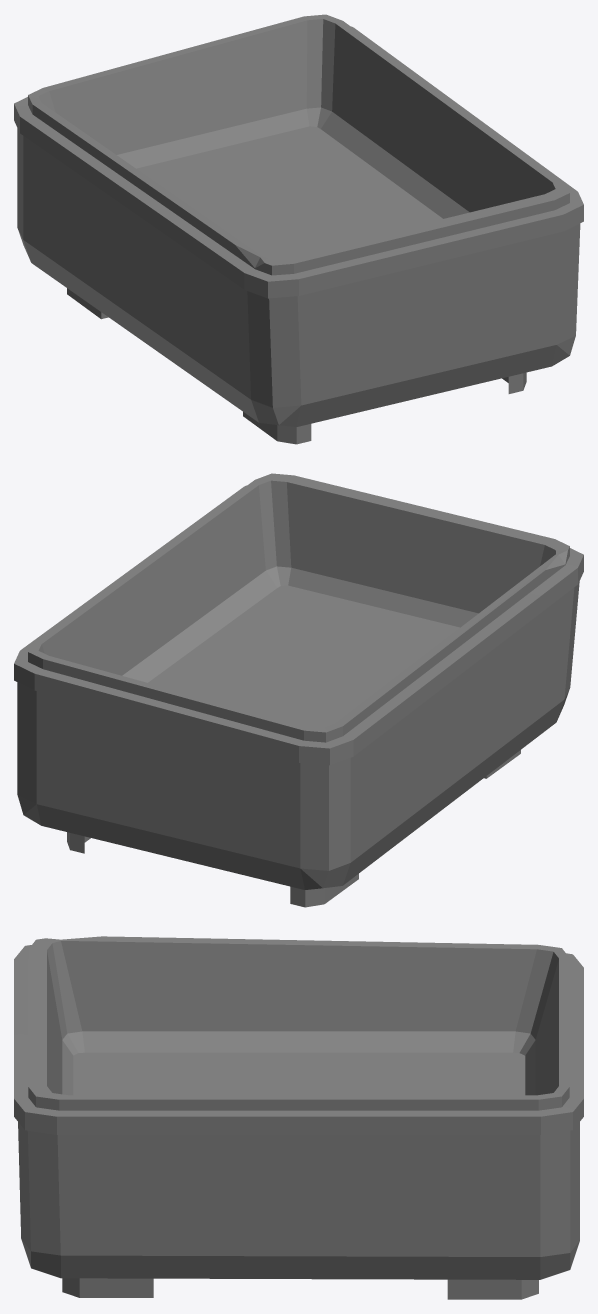
File: prop_52.FBX
3 views of the same model, one above another, from view 1: azimuth 30°, elevation 25°; view 2: azimuth 150°, elevation 25°; view 3: azimuth 270°, elevation 25° (orthographic). The views are drawn at different scales.
Parts seen in each view (by area): view 1: prop_52; view 2: prop_52; view 3: prop_52.
Part boxes in pixels (box(x1,y1,x2,y2)): prop_52: box(14, 14, 583, 444); prop_52: box(14, 473, 583, 907); prop_52: box(14, 936, 583, 1299).
Size of the model in its own units: 25.53 by 14.5 by 35.04.
